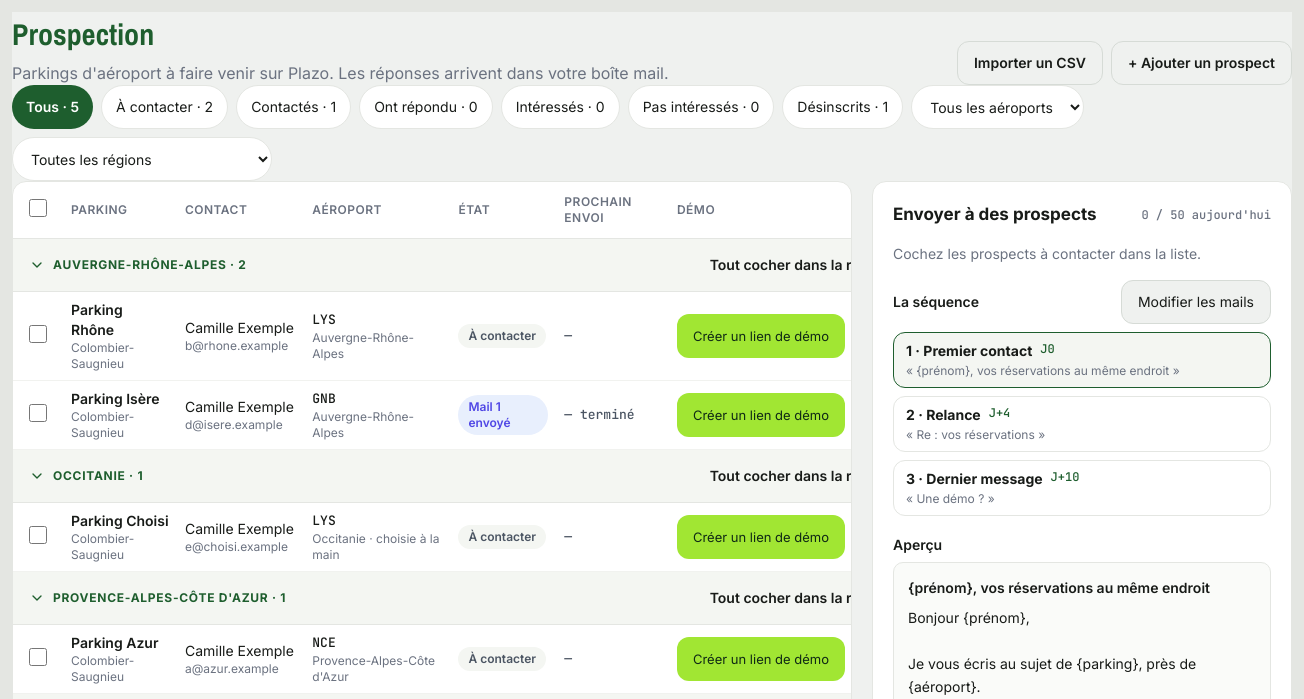
Scenario: Plateforme › Prospection › classement par région (19/10/2026) › filtre « Toutes les régions » : régions qui ont des prospects, avec leur nombre, et « Sans région »
Expected: the text "Parking Rhône" is shown, 71,301 -> 123,338
Select "Sans région (1)" in the 2nd dropdown named "Région" at (142, 159), box 12,137 -> 272,181
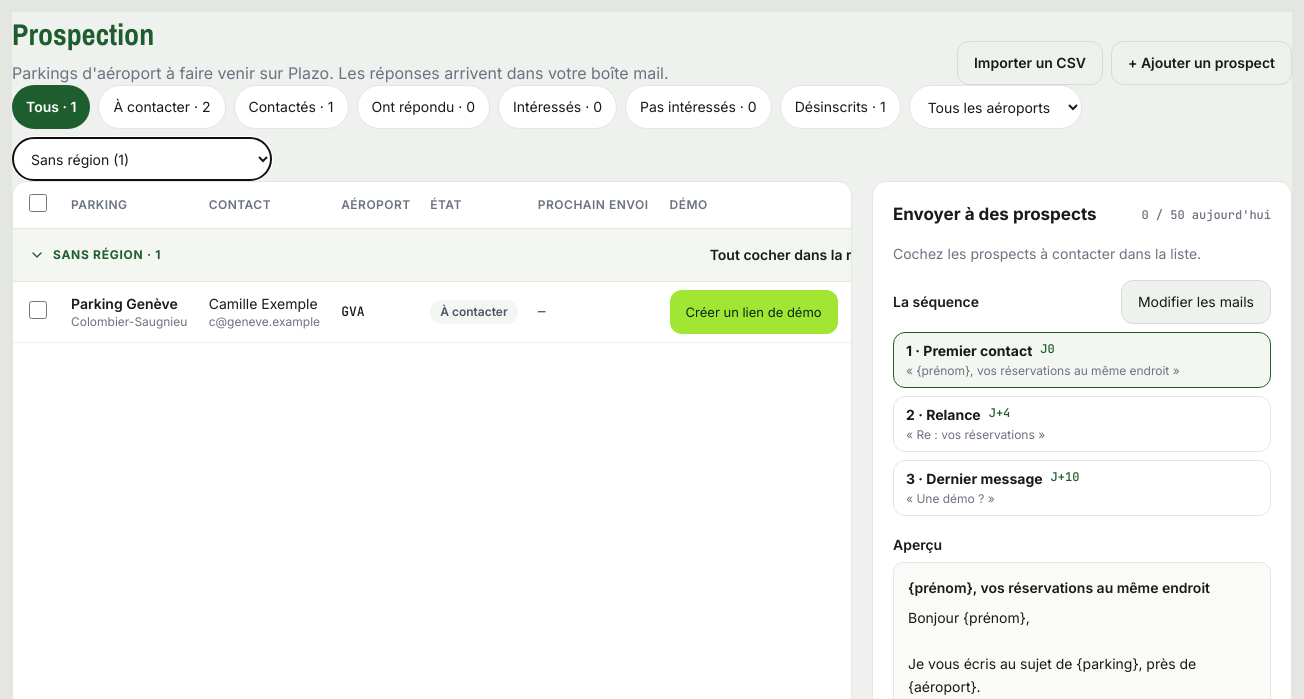
Expected: the text "Parking Genève" is shown, 71,294 -> 193,314
Expected: the text "Parking Rhône" is gone
Expected: the button "Tous · 1" is shown, 12,85 -> 90,129
